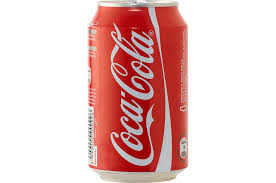coke: (88, 1, 189, 180)
